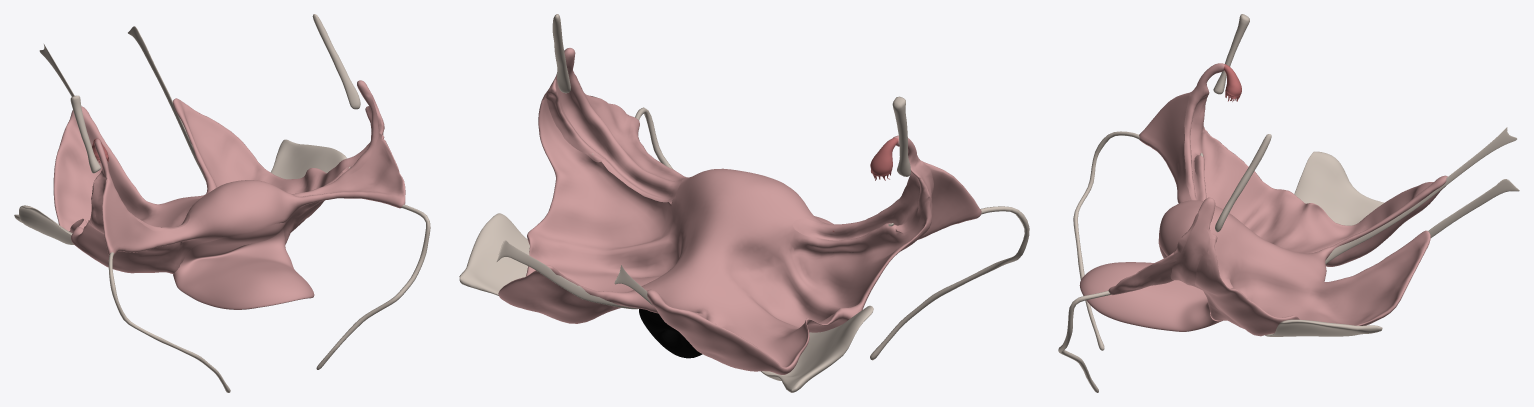
Rendered from 3d-vh-f-ovary-r-landmark.fbx.
3 views of the same model, side by side, from view 1: azimuth 30°, elevation 25°; view 2: azimuth 150°, elevation 25°; view 3: azimuth 270°, elevation 25° (orthographic). The views are drawn at different scales.
Visible parts, largest first — view 1: VH_F_ovary_R_landmark_ligaments_of_uterus_and_ovaries; view 2: VH_F_ovary_R_landmark_ligaments_of_uterus_and_ovaries, VH_F_ovary_R_landmark_uterus, VH_F_ovary_R_landmark_fallopian_tube; view 3: VH_F_ovary_R_landmark_ligaments_of_uterus_and_ovaries, VH_F_ovary_R_landmark_fallopian_tube.
Part boxes in pixels (x1,y1,x2,y2): VH_F_ovary_R_landmark_ligaments_of_uterus_and_ovaries: (14,14,430,392); VH_F_ovary_R_landmark_ligaments_of_uterus_and_ovaries: (459,14,1029,392); VH_F_ovary_R_landmark_uterus: (639,308,702,358); VH_F_ovary_R_landmark_fallopian_tube: (833,137,898,231); VH_F_ovary_R_landmark_ligaments_of_uterus_and_ovaries: (1058,14,1519,392); VH_F_ovary_R_landmark_fallopian_tube: (1223,64,1241,101).
Size of the model in its own units: 14.71 by 12.34 by 17.06.
